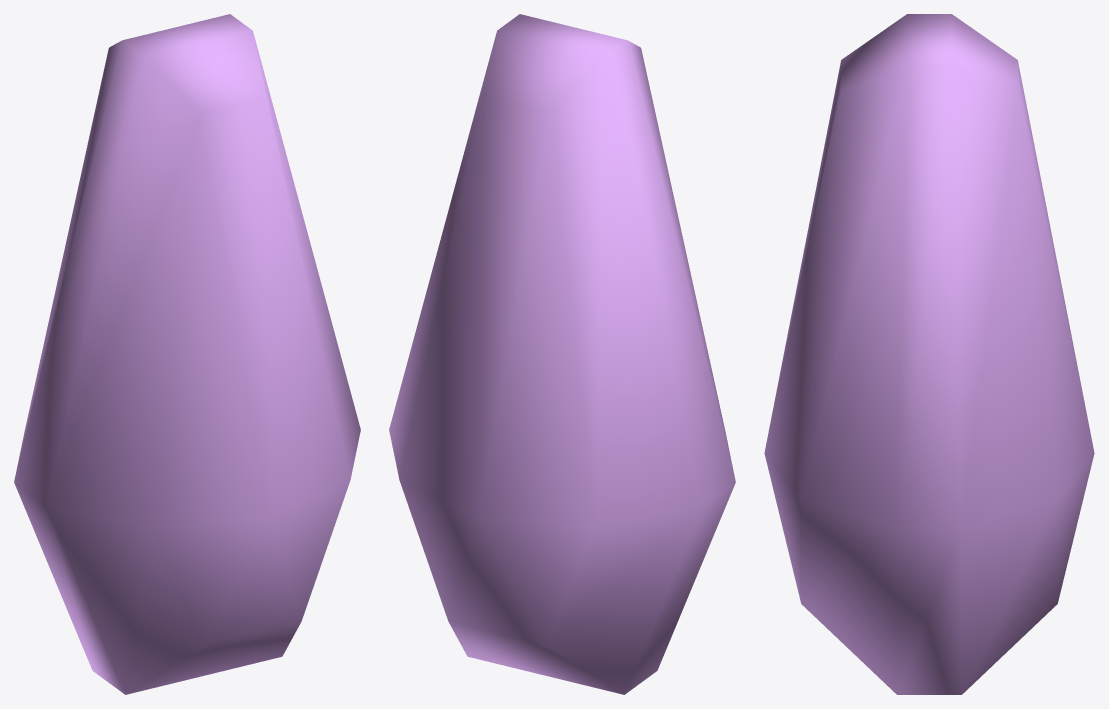
Rendered from ytlds_Object (33).fbx.
3 views of the same model, side by side, from view 1: azimuth 30°, elevation 25°; view 2: azimuth 150°, elevation 25°; view 3: azimuth 270°, elevation 25° (orthographic).
Visible parts, largest first — view 1: Object33; view 2: Object33; view 3: Object33.
Boxes of the visible parts, box(x1,y1,x2,y2) form: Object33: box(14, 14, 360, 694); Object33: box(389, 14, 735, 694); Object33: box(764, 14, 1094, 694).
Size of the model in its own units: 139 by 266 by 129.
